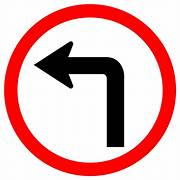left: (3, 4, 176, 178)
